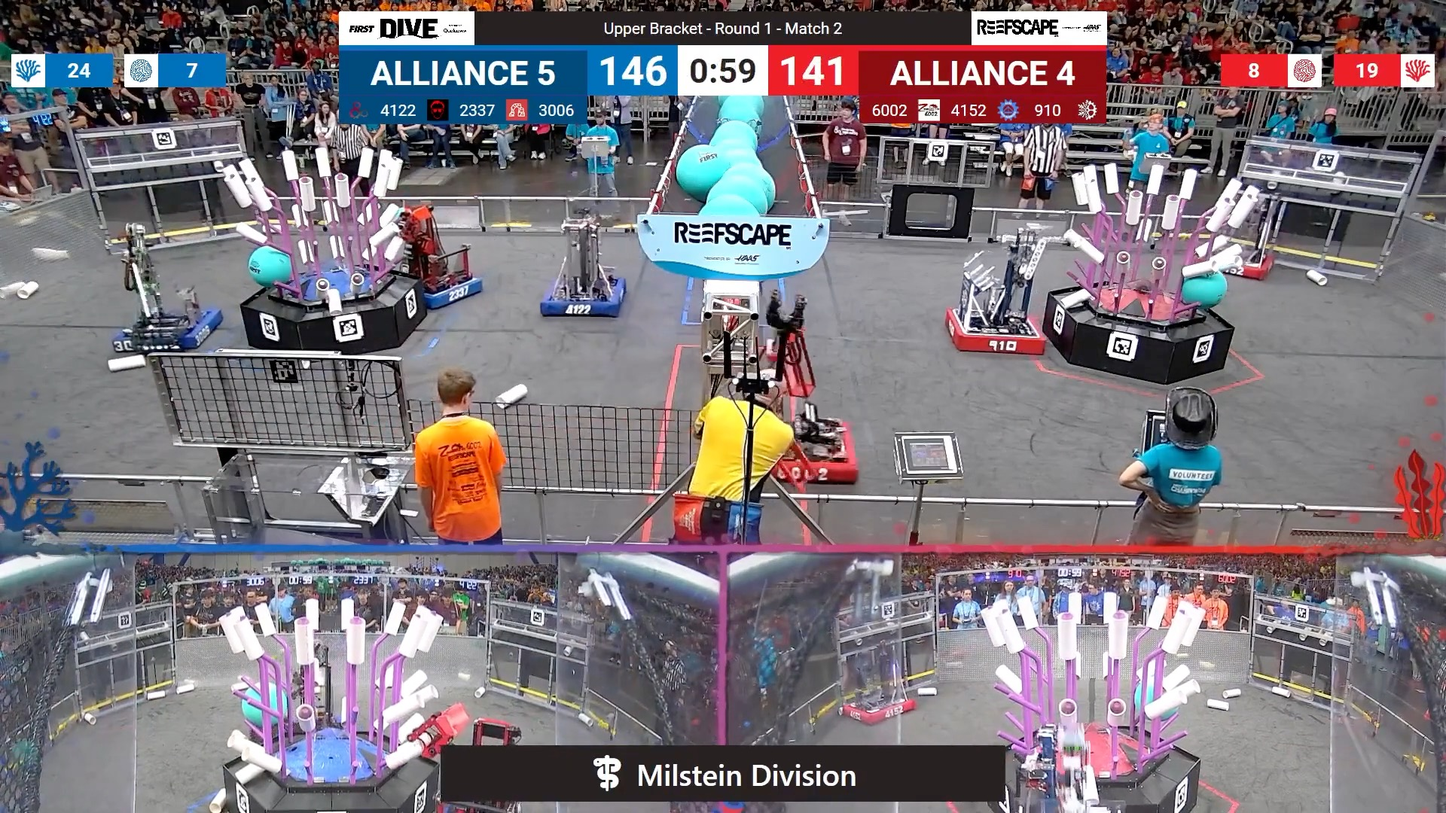bumpers: (761, 422, 862, 489), (940, 303, 1052, 359), (108, 304, 227, 356), (535, 273, 633, 323), (402, 269, 491, 312), (835, 691, 922, 726)
